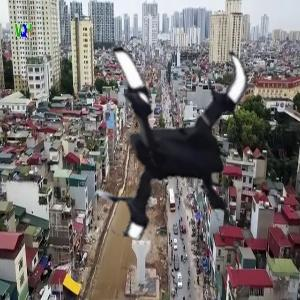drone: (54, 32, 291, 269)
